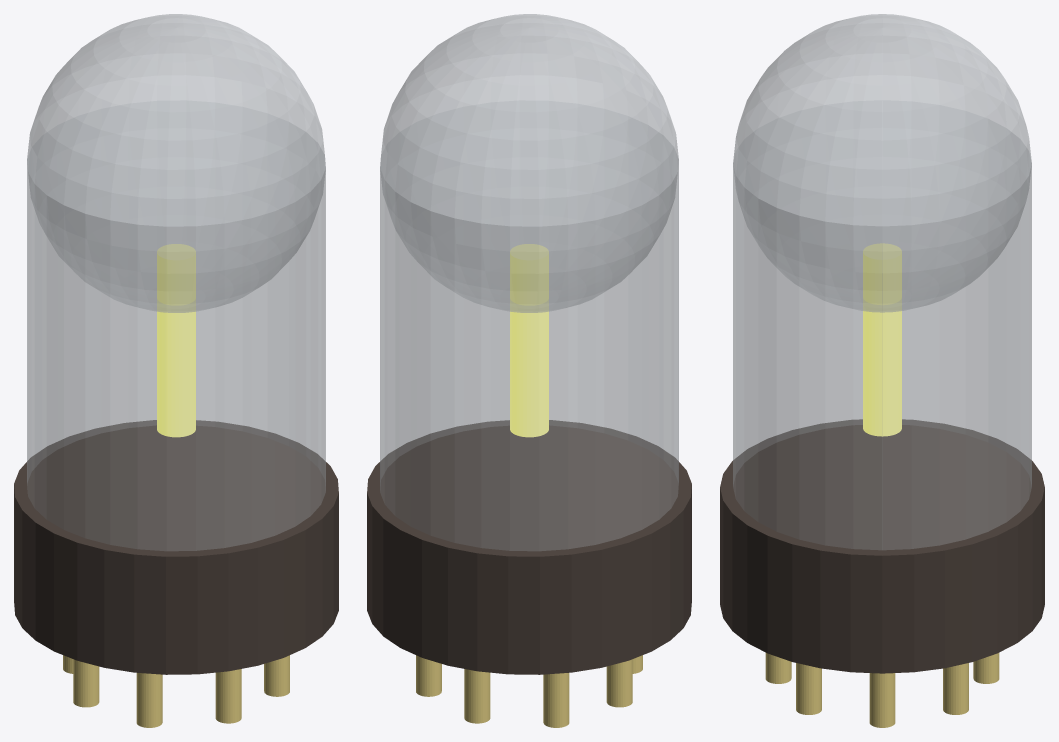
The model's file is vacuum_tube.glb.
3 views of the same model, side by side, from view 1: azimuth 30°, elevation 25°; view 2: azimuth 150°, elevation 25°; view 3: azimuth 270°, elevation 25° (orthographic).
Visible parts, largest first — view 1: GlassBulb, TubeBase, BulbDome, GlowingFilament, Cylinder.005, Cylinder.006, Cylinder.004, Cylinder.007; view 2: GlassBulb, TubeBase, BulbDome, GlowingFilament, Cylinder.003, Cylinder.002, Cylinder.004, Cylinder.001; view 3: GlassBulb, TubeBase, BulbDome, GlowingFilament, Cylinder, Cylinder.001, Cylinder.007, Cylinder.002, Cylinder.006.
Boxes of the visible parts, x1,y1,x2,y2 form: GlassBulb: [27, 100, 325, 550]; TubeBase: [14, 420, 338, 674]; BulbDome: [27, 14, 325, 312]; GlowingFilament: [157, 244, 195, 437]; Cylinder.005: [136, 673, 162, 727]; Cylinder.006: [215, 669, 241, 723]; Cylinder.004: [73, 659, 99, 707]; Cylinder.007: [264, 655, 289, 696]; GlassBulb: [380, 100, 678, 550]; TubeBase: [367, 420, 691, 674]; BulbDome: [380, 14, 678, 312]; GlowingFilament: [510, 244, 548, 437]; Cylinder.003: [543, 673, 569, 727]; Cylinder.002: [464, 669, 490, 723]; Cylinder.004: [606, 659, 632, 707]; Cylinder.001: [416, 655, 441, 696]; GlassBulb: [733, 100, 1031, 549]; TubeBase: [720, 419, 1044, 673]; BulbDome: [733, 14, 1031, 312]; GlowingFilament: [863, 243, 901, 436]; Cylinder: [869, 673, 895, 727]; Cylinder.001: [943, 663, 968, 714]; Cylinder.007: [796, 663, 821, 714]; Cylinder.002: [973, 653, 999, 683]; Cylinder.006: [765, 653, 791, 683].
Size of the model in its own units: 0.5 by 1.1 by 0.5.
